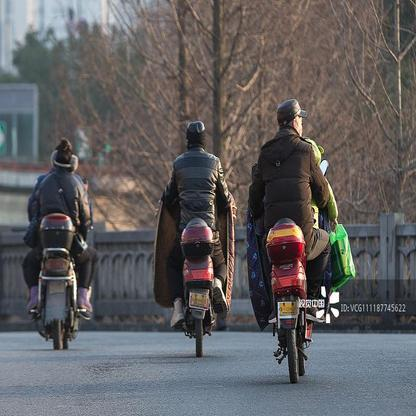target: (245, 99, 359, 383), (152, 118, 238, 360), (20, 137, 98, 353)
